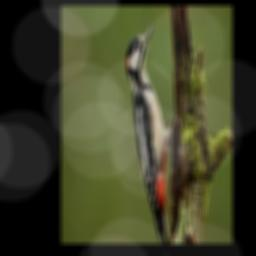Woodpecker: (127, 23, 183, 244)
